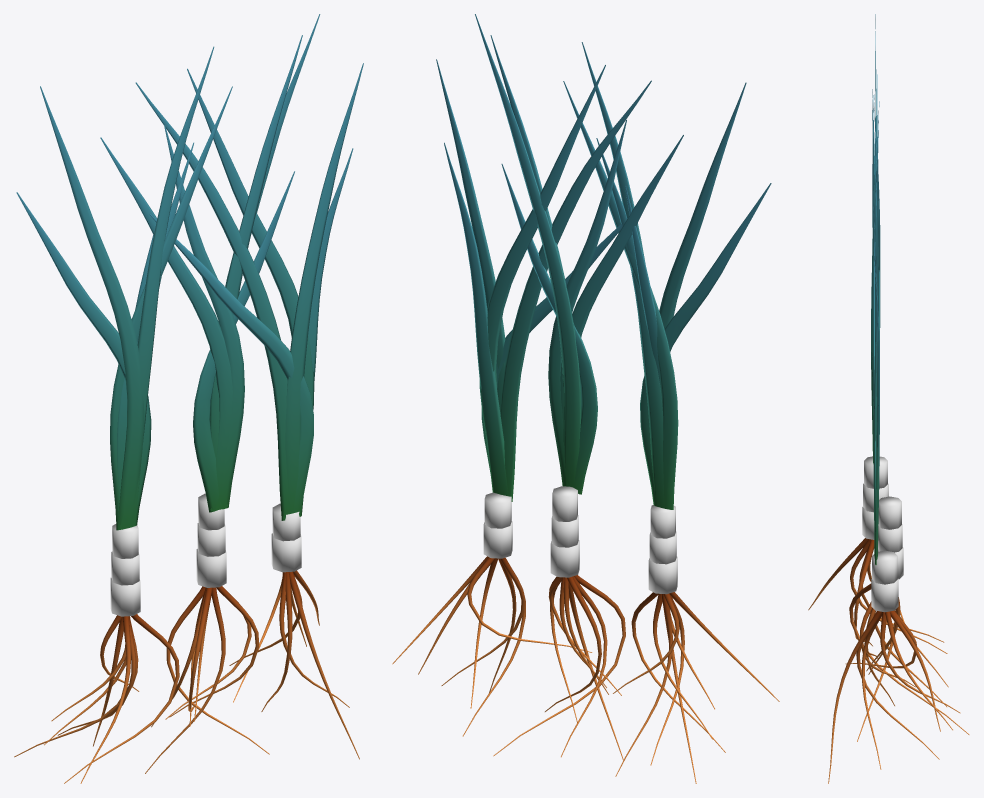
File: testposidonia.fbx
3 views of the same model, side by side, from view 1: azimuth 30°, elevation 25°; view 2: azimuth 150°, elevation 25°; view 3: azimuth 270°, elevation 25° (orthographic). The views are drawn at different scales.
Visible parts, largest first — view 1: Posidonia_Leaves, Posidonia_Roots, Posidonia_Rhizome; view 2: Posidonia_Leaves, Posidonia_Roots, Posidonia_Rhizome; view 3: Posidonia_Roots, Posidonia_Rhizome, Posidonia_Leaves.
Boxes of the visible parts, x1,y1,x2,y2 form: Posidonia_Leaves: (16,14,363,530); Posidonia_Roots: (14,570,359,783); Posidonia_Rhizome: (110,493,301,616); Posidonia_Leaves: (436,14,771,509); Posidonia_Roots: (392,556,779,783); Posidonia_Rhizome: (483,486,677,594); Posidonia_Roots: (808,538,969,783); Posidonia_Rhizome: (862,456,903,612); Posidonia_Leaves: (871,14,880,564).
Bounding box in the file's own units: 41.52 × 82.97 × 18.79.
